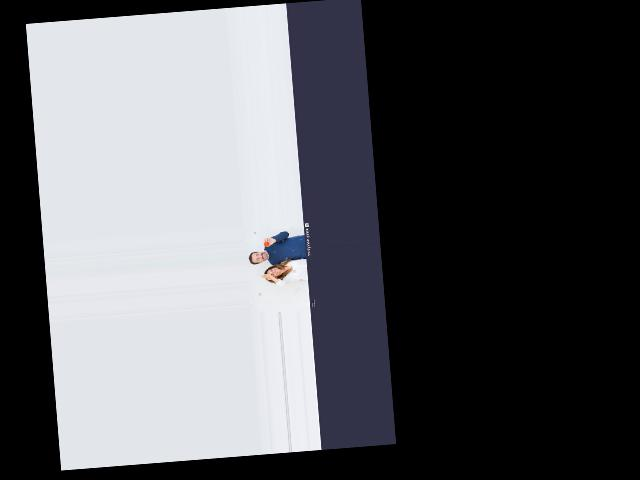tomato: (263, 242, 268, 247)
